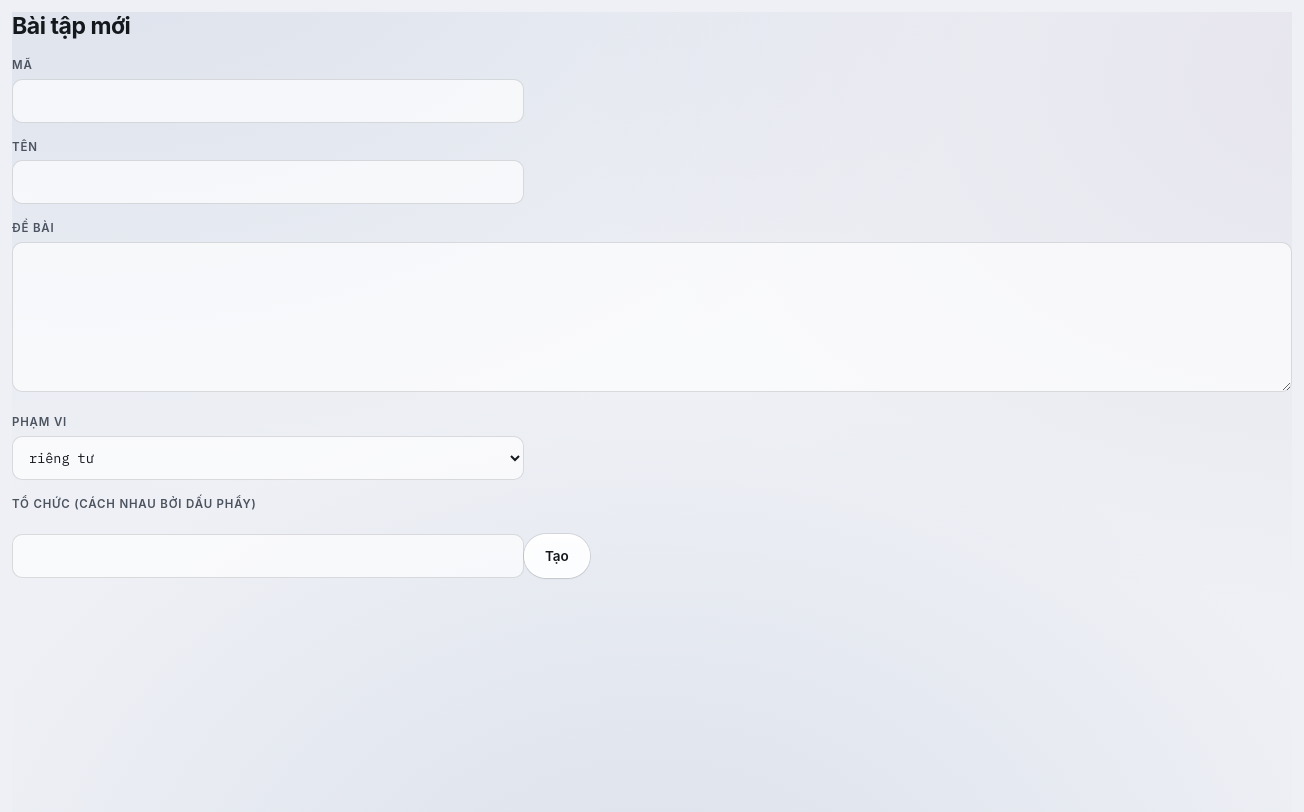
Test: ProblemEditPage › the preview pane updates as the statement changes
Click the text box labelled "Đề bài": (652, 317) x1=12 y1=242 x2=1292 y2=392
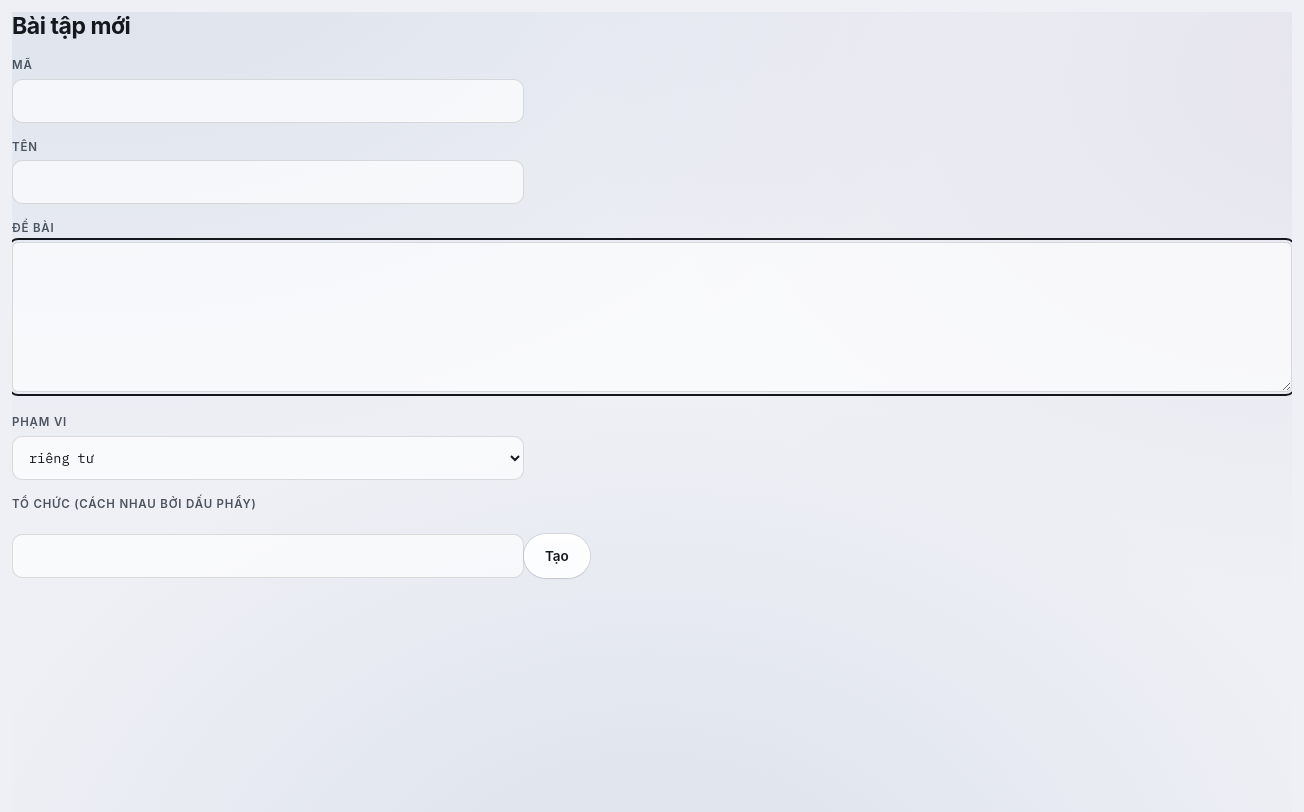
Type keys "# Hello"
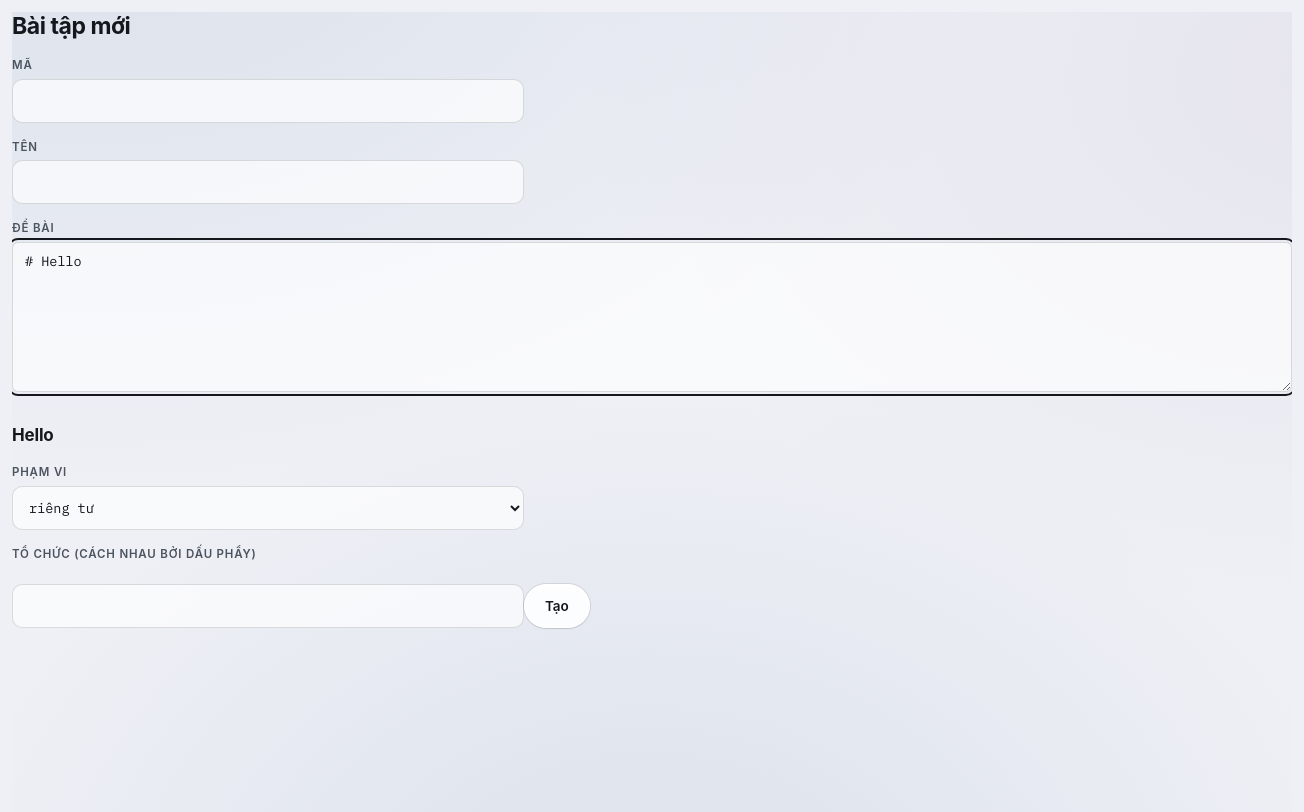
Now the heading "Hello" is shown, box x1=12 y1=425 x2=54 y2=445
